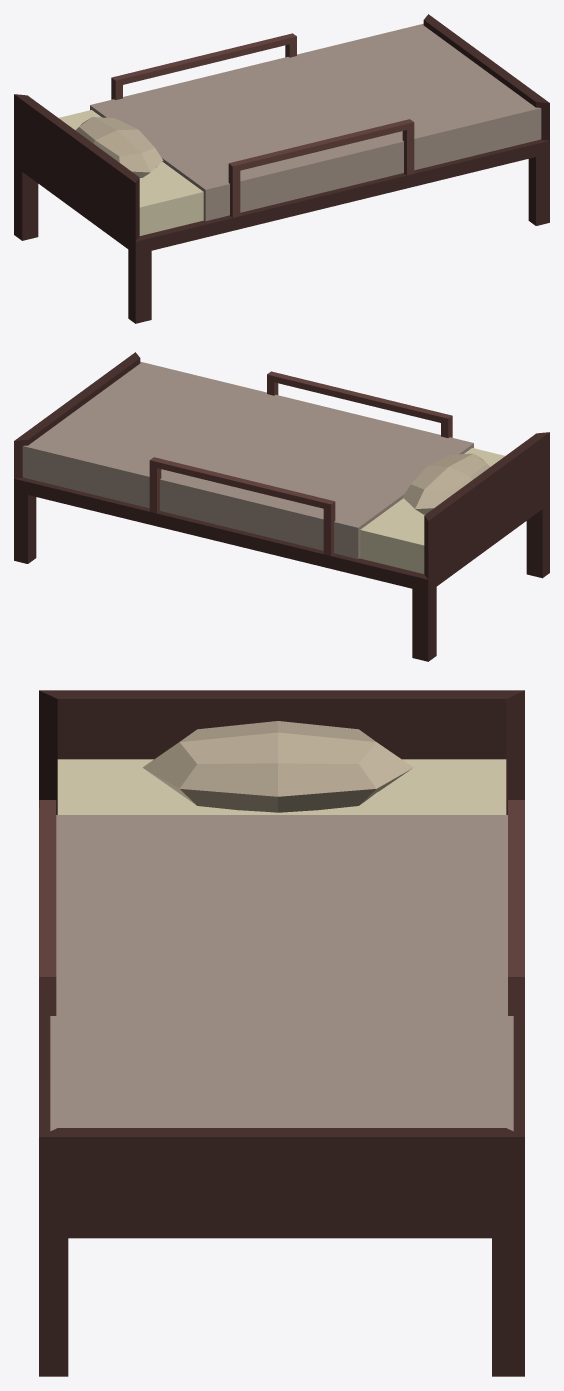
The model's file is bed.fbx.
The picture shows the model from 3 angles, top to bottom: view 1: azimuth 30°, elevation 25°; view 2: azimuth 150°, elevation 25°; view 3: azimuth 270°, elevation 25°; orthographic projection. The views are drawn at different scales.
Visible parts, largest first — view 1: Cube.004, Cube, Cube.005, Cube.002, Cube.003, Cube.001; view 2: Cube.004, Cube, Cube.005, Cube.001, Cube.003, Cube.002; view 3: Cube.004, Cube, Cube.003, Cube.005, Cube.002, Cube.001.
Boxes of the visible parts, x1=… form: Cube.004: x1=90, y1=23, x2=541, y2=220; Cube: x1=14, y1=14, x2=549, y2=323; Cube.005: x1=59, y1=110, x2=203, y2=235; Cube.002: x1=228, y1=119, x2=414, y2=217; Cube.003: x1=75, y1=117, x2=163, y2=177; Cube.001: x1=111, y1=33, x2=296, y2=99; Cube.004: x1=22, y1=361, x2=473, y2=558; Cube: x1=14, y1=352, x2=549, y2=661; Cube.005: x1=360, y1=448, x2=504, y2=573; Cube.001: x1=149, y1=457, x2=335, y2=555; Cube.003: x1=403, y1=453, x2=489, y2=514; Cube.002: x1=267, y1=371, x2=452, y2=437; Cube.004: x1=50, y1=815, x2=513, y2=1131; Cube: x1=39, y1=690, x2=524, y2=1376; Cube.003: x1=142, y1=721, x2=413, y2=812; Cube.005: x1=57, y1=759, x2=506, y2=814; Cube.002: x1=39, y1=800, x2=56, y2=1079; Cube.001: x1=508, y1=800, x2=524, y2=1079.
Size of the model in its own units: 587 by 191 by 298.
